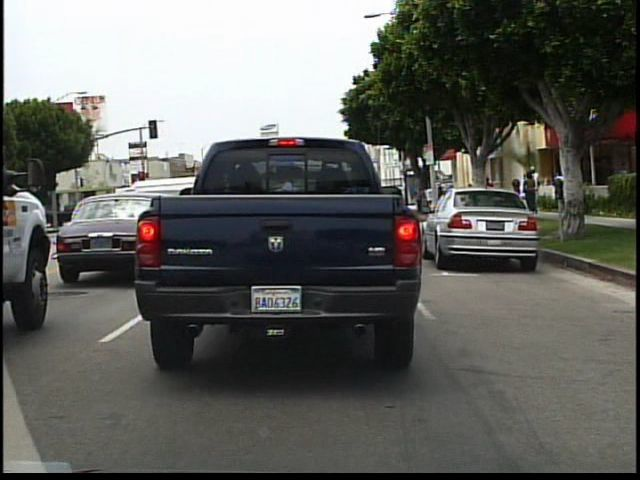person: (479, 171, 498, 214)
